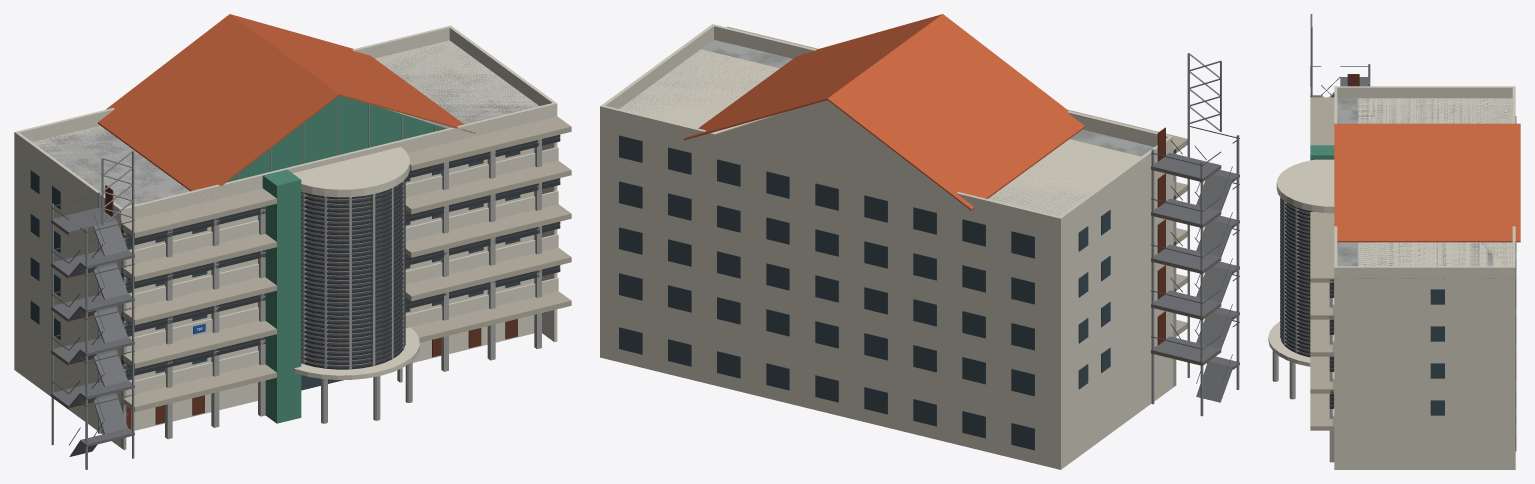
3 renders of one model, left to right at view 1: azimuth 30°, elevation 25°; view 2: azimuth 150°, elevation 25°; view 3: azimuth 270°, elevation 25°, orthographic. The views are drawn at different scales.
Parts seen in each view (by area): view 1: TA4; view 2: TA4; view 3: TA4.
Boxes of the visible parts, x1,y1,x2,y2 form: TA4: [14, 14, 571, 469]; TA4: [600, 14, 1239, 469]; TA4: [1268, 14, 1520, 469].
Size of the model in its own units: 39.75 by 24.04 by 21.
15 materials, 1 textured.
